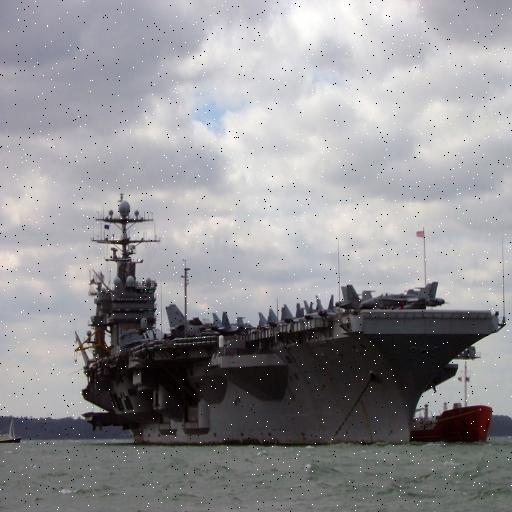Portanaves: (74, 187, 507, 450)
